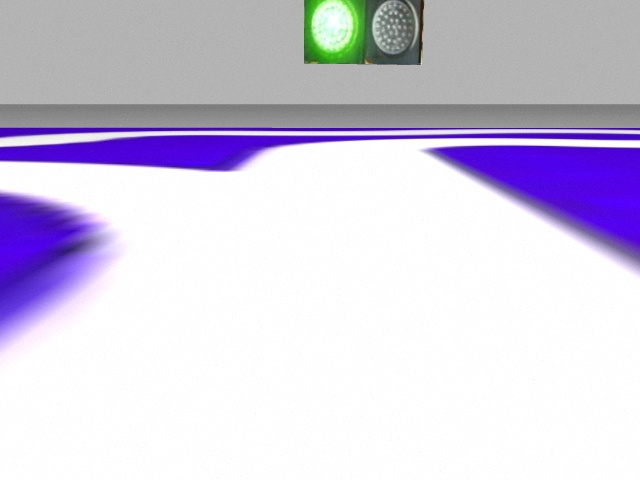green: (303, 2, 363, 64)
